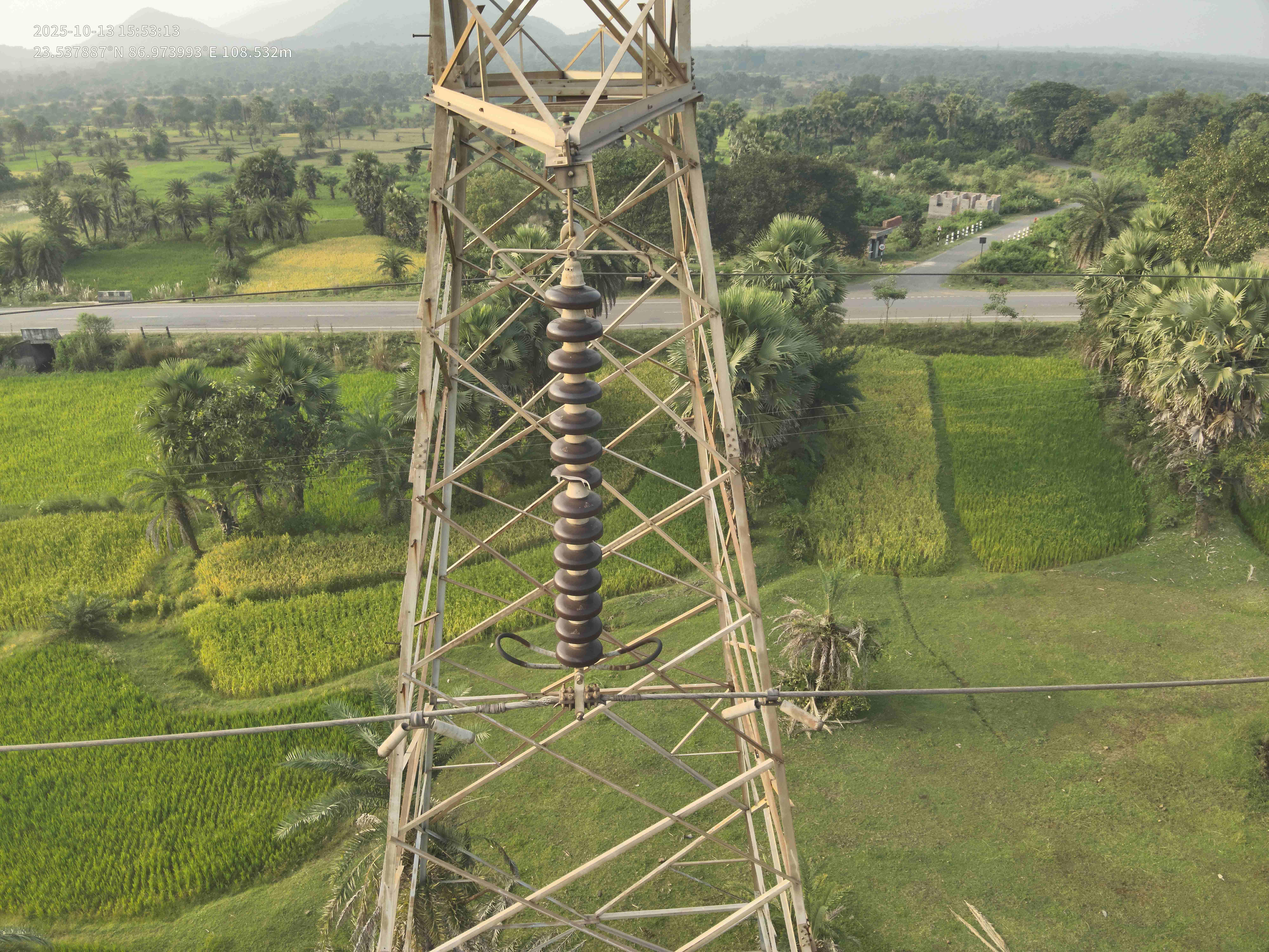broken_insulator: (544, 464, 607, 492)
